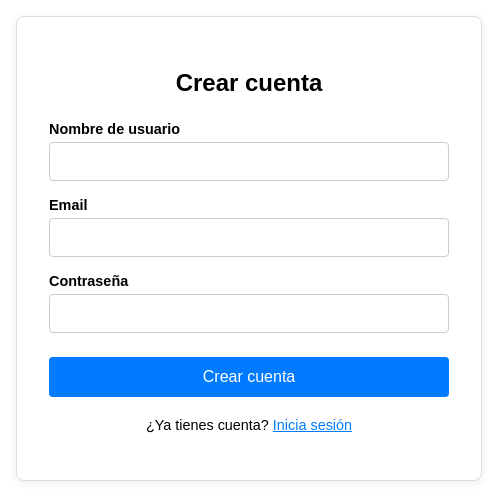
RegisterPage › deshabilita el botón y muestra "Registrando..." mientras se procesa el registro
The width and height of the screenshot is (499, 499).
Step 1. Type "nuevo" into the field labelled "Nombre de usuario" → (249, 161), box [49,142,449,181]
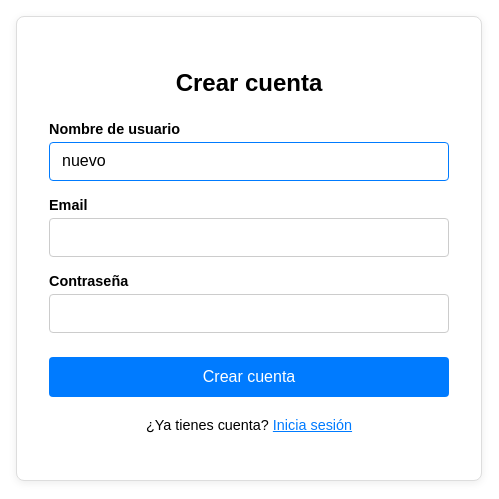
Step 2. Type "nuevo@test.com" into the field labelled "Email" → (249, 237), box [49,218,449,257]
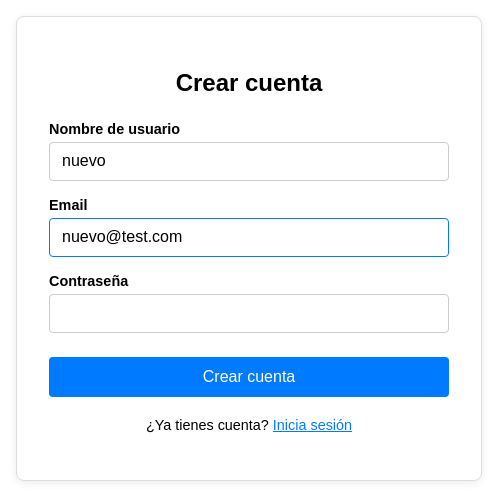
Step 3. Type "secret1" into the password field labelled "Contraseña" → (249, 313), box [49,294,449,333]
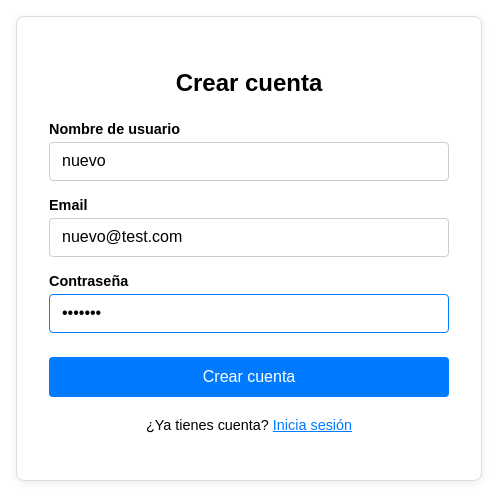
Step 4. Click the button "Crear cuenta" → click(249, 377), box [49,357,449,397]
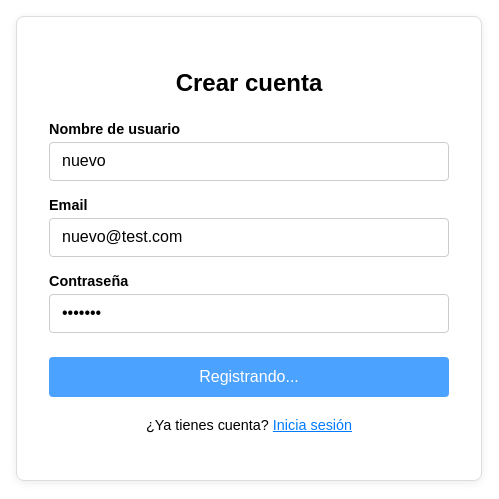
Result: the button "Registrando..." is disabled at [49,357,449,397]
